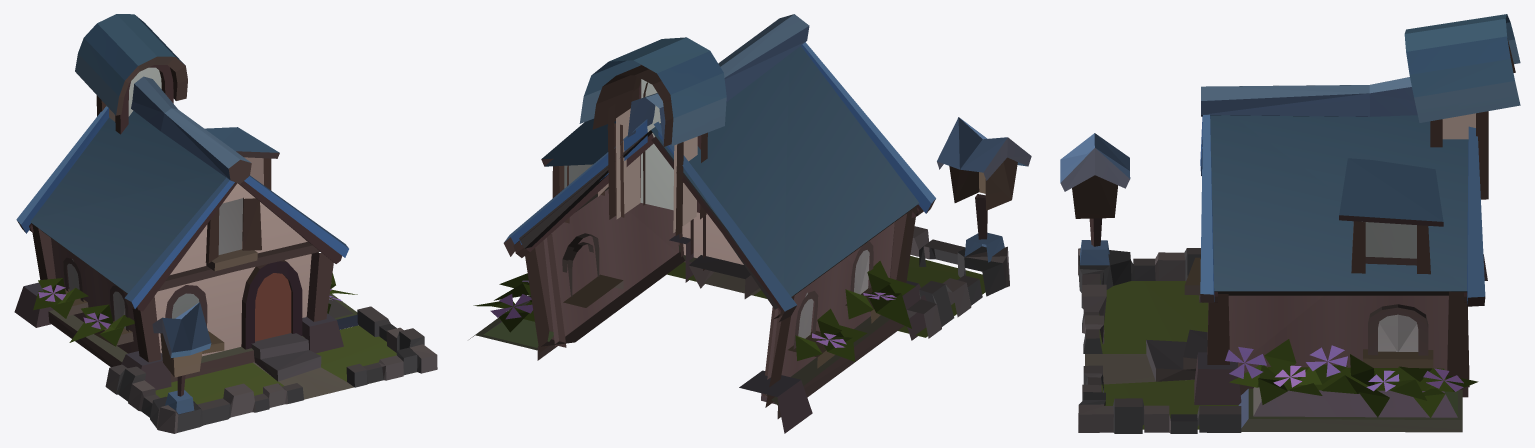
Rendered from building33.fbx.
The picture shows the model from 3 angles, left to right: view 1: azimuth 30°, elevation 25°; view 2: azimuth 150°, elevation 25°; view 3: azimuth 270°, elevation 25°; orthographic projection. The views are drawn at different scales.
Parts seen in each view (by area): view 1: building33; view 2: building33; view 3: building33.
Boxes of the visible parts, <box> form: building33: <box>14,14,437,433</box>; building33: <box>469,14,1031,433</box>; building33: <box>1060,14,1520,433</box>.
Size of the model in its own units: 2.15 by 1.91 by 2.43.
Materials: 1 (1 with a texture image).
